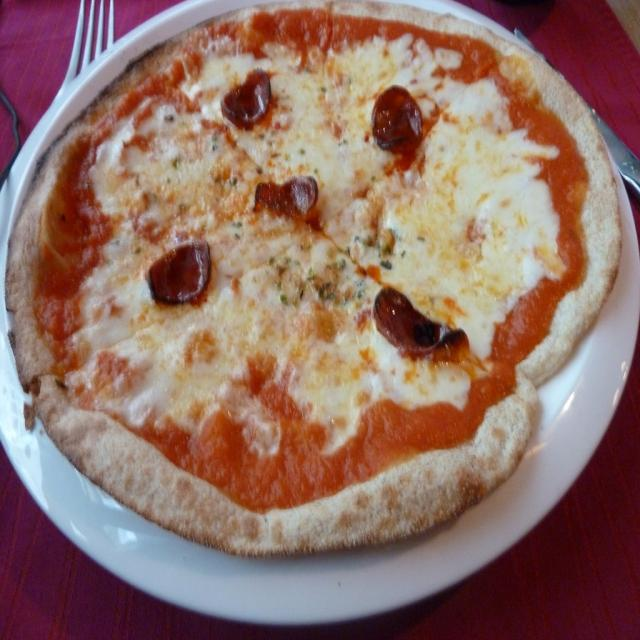Pizza: (6, 0, 622, 550)
